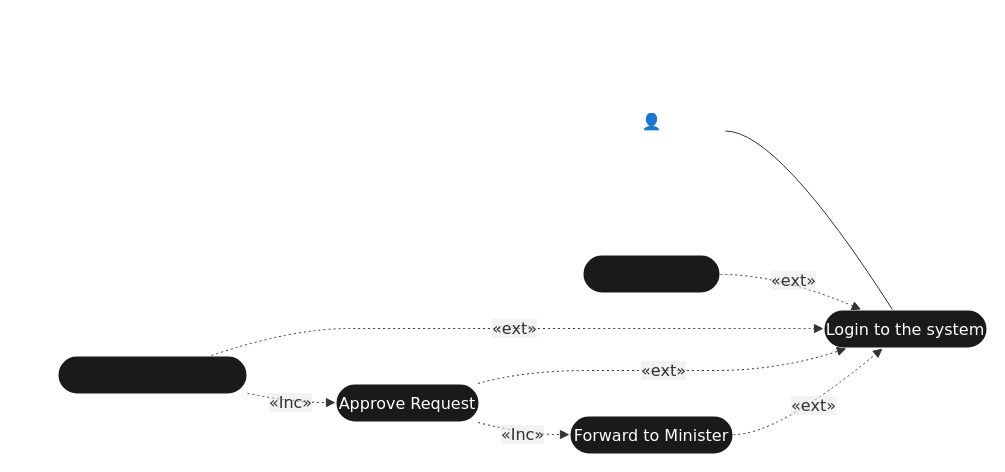
Image size: 1005x472. Some labels were removed from this diagram. The centre of each missing label's shape, as x and y in pixels:
Check Officer Requests: point 152,374
View Dashboard: point 651,273
